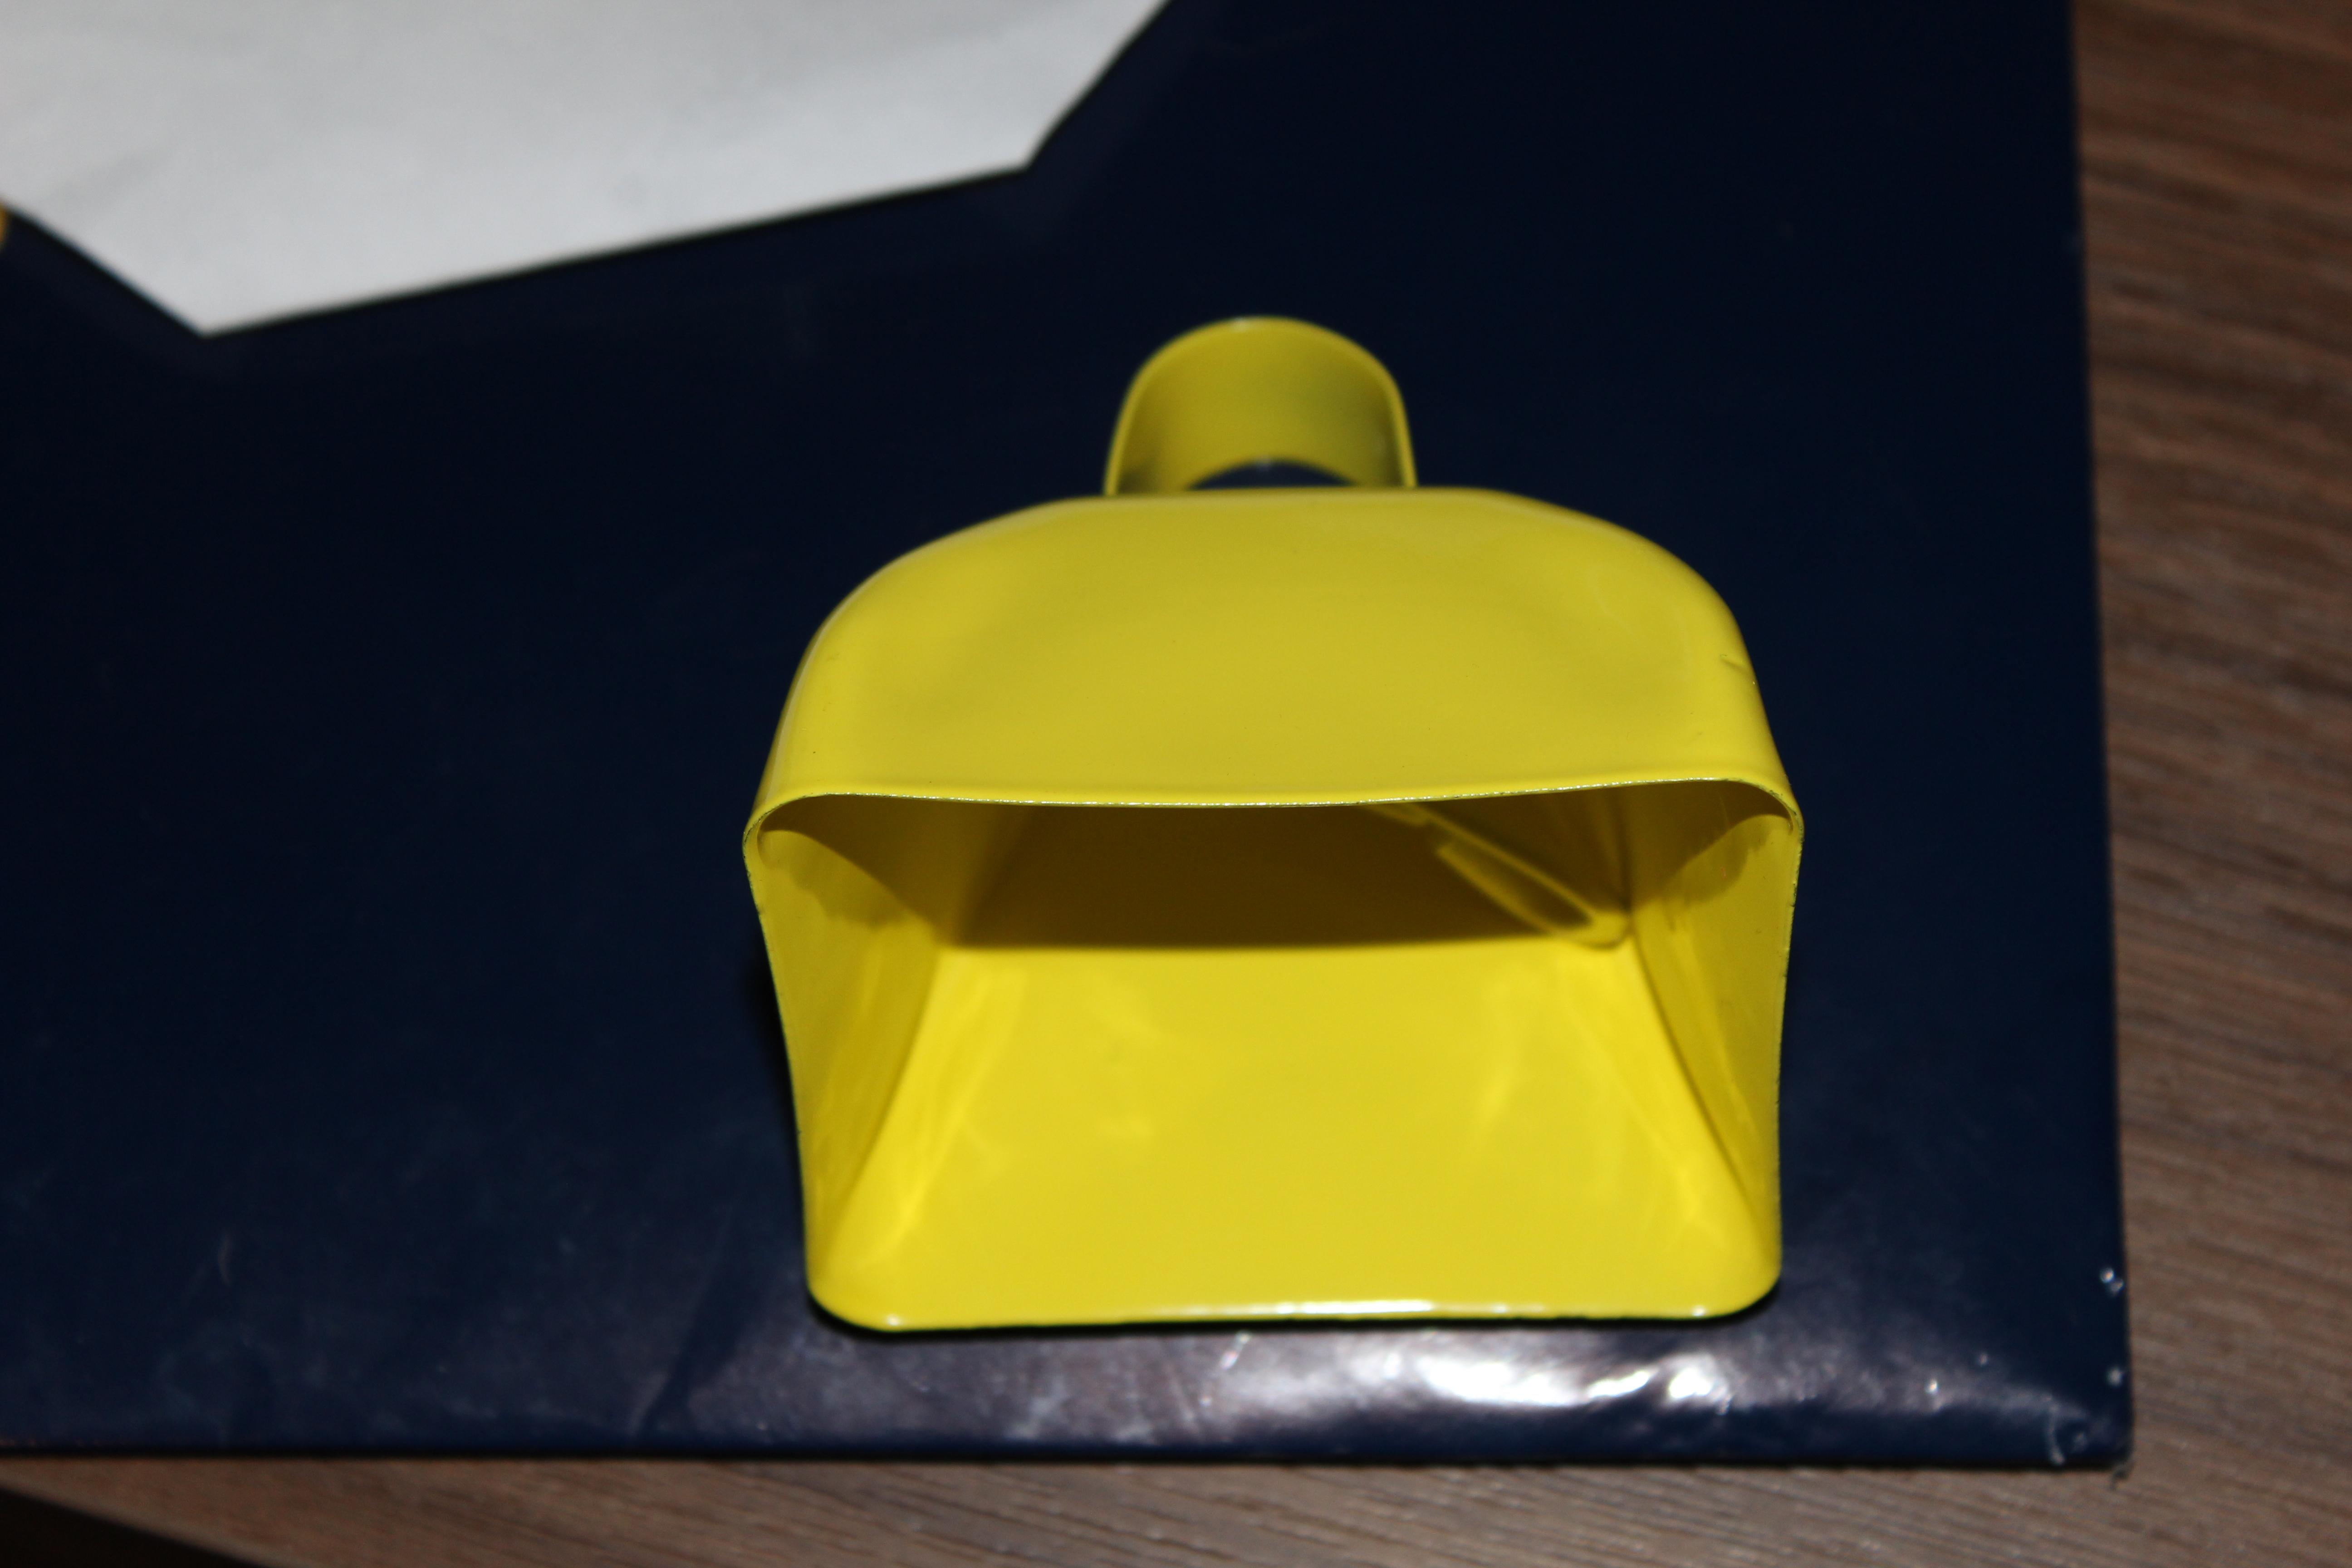cowbell: (709, 287, 1829, 1379)
